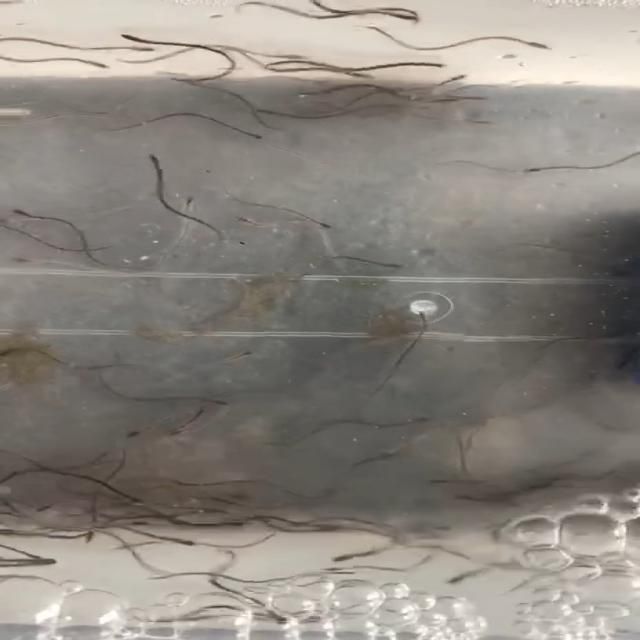active_glass_eel: (504, 30, 576, 59), (407, 49, 471, 80), (374, 3, 429, 28), (125, 150, 172, 175), (234, 126, 282, 147), (216, 489, 264, 510), (170, 604, 228, 620), (300, 517, 348, 536), (44, 54, 100, 70), (84, 41, 138, 57), (543, 332, 597, 348), (452, 486, 500, 504), (431, 68, 481, 85), (329, 547, 376, 564), (22, 554, 64, 573), (22, 523, 66, 541), (127, 516, 162, 538), (400, 309, 444, 326), (114, 30, 163, 45), (395, 412, 433, 431), (223, 349, 261, 367), (122, 427, 157, 446), (10, 203, 49, 220), (167, 72, 200, 92), (164, 476, 210, 490), (314, 211, 342, 233), (1, 342, 36, 359), (517, 162, 554, 178), (320, 565, 357, 581), (197, 395, 239, 409), (463, 114, 505, 128), (372, 260, 406, 277), (267, 611, 303, 627), (596, 357, 634, 372), (190, 421, 230, 435), (170, 416, 204, 432), (431, 574, 461, 592), (334, 564, 377, 576), (322, 64, 358, 78), (452, 92, 502, 102), (20, 254, 51, 270), (78, 528, 108, 544), (419, 95, 462, 106), (176, 194, 200, 213), (33, 498, 65, 512), (232, 214, 260, 228), (175, 538, 208, 549), (0, 214, 20, 229), (470, 424, 494, 433)
